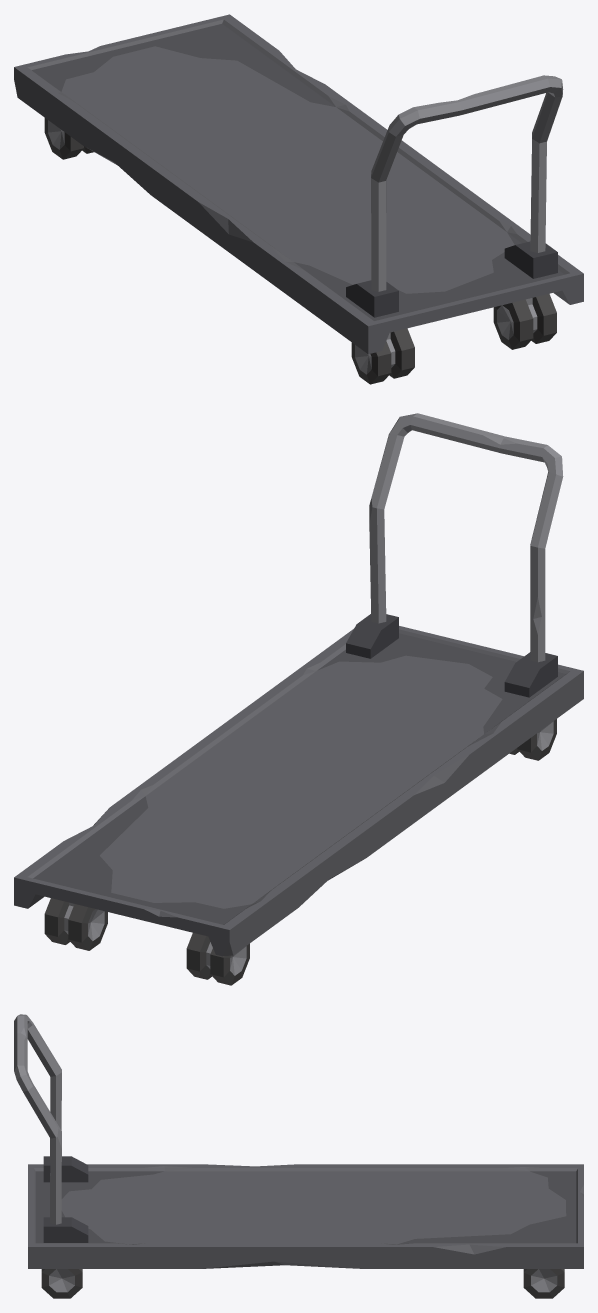
File: SM_Prop_Cart_01.fbx
The picture shows the model from 3 angles, top to bottom: view 1: azimuth 30°, elevation 25°; view 2: azimuth 150°, elevation 25°; view 3: azimuth 270°, elevation 25°; orthographic projection. The views are drawn at different scales.
Parts seen in each view (by area): view 1: SM_Prop_Cart_01_LOD0; view 2: SM_Prop_Cart_01_LOD0; view 3: SM_Prop_Cart_01_LOD0.
Boxes of the visible parts, bbox=[...] form: SM_Prop_Cart_01_LOD0: bbox=[14, 14, 583, 384]; SM_Prop_Cart_01_LOD0: bbox=[14, 413, 583, 985]; SM_Prop_Cart_01_LOD0: bbox=[14, 1014, 583, 1298].
Bounding box in the file's own units: 253 × 86.68 × 109.
Materials: 1 (1 with a texture image).
